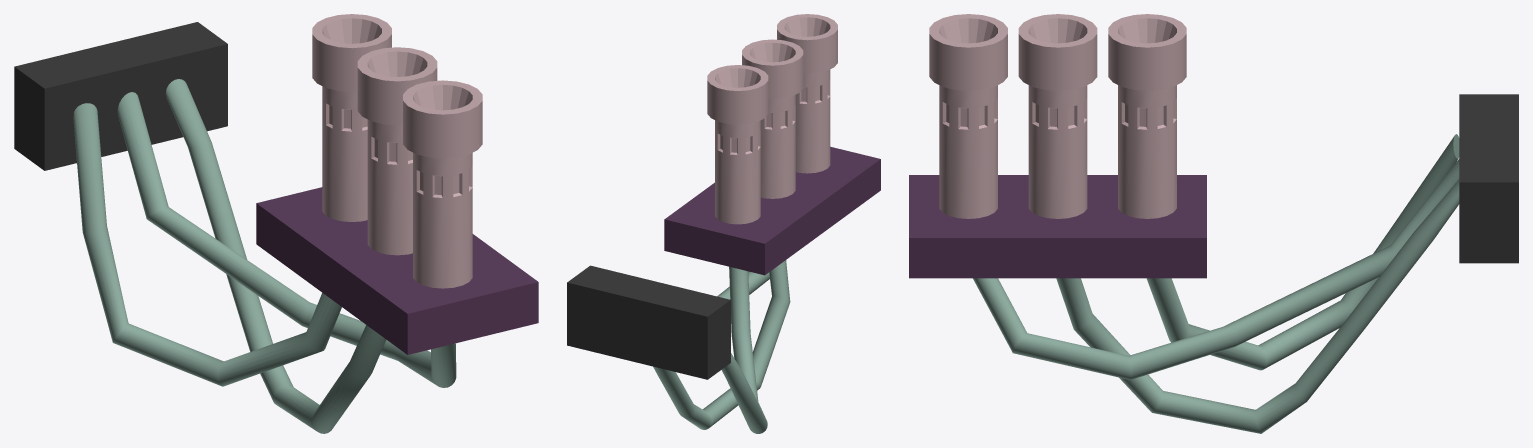
The model's file is Bunsenbrenner.fbx.
3 renders of one model, left to right at view 1: azimuth 30°, elevation 25°; view 2: azimuth 150°, elevation 25°; view 3: azimuth 270°, elevation 25°, orthographic. The views are drawn at different scales.
Parts seen in each view (by area): view 1: Bunsi001; view 2: Bunsi001; view 3: Bunsi001.
Part boxes in pixels (x1,y1,x2,y2): Bunsi001: [14, 14, 538, 433]; Bunsi001: [567, 14, 880, 433]; Bunsi001: [909, 14, 1518, 433].
Size of the model in its own units: 20.81 by 38.31 by 51.97.
